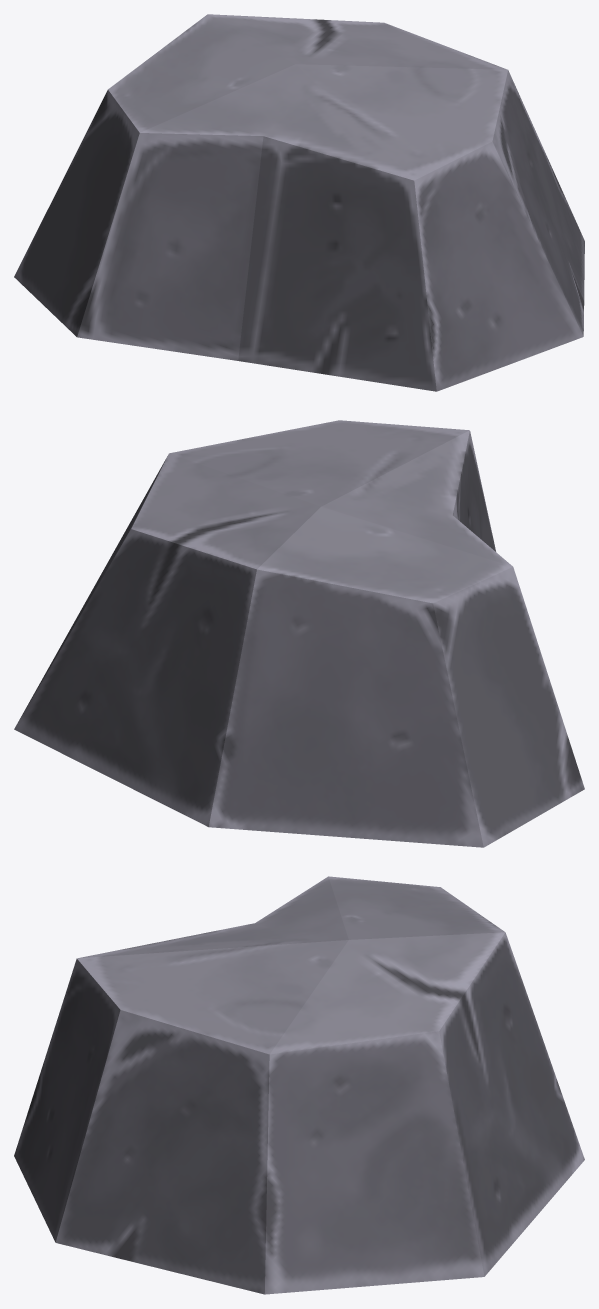
File: Stone1.FBX
The picture shows the model from 3 angles, top to bottom: view 1: azimuth 30°, elevation 25°; view 2: azimuth 150°, elevation 25°; view 3: azimuth 270°, elevation 25°; orthographic projection. The views are drawn at different scales.
Visible parts, largest first — view 1: Object105; view 2: Object105; view 3: Object105.
Part boxes in pixels (x1,y1,x2,y2): Object105: (14,14,584,391); Object105: (14,420,584,847); Object105: (14,876,584,1294).
Bounding box in the file's own units: 51.23 × 21.36 × 49.36.
